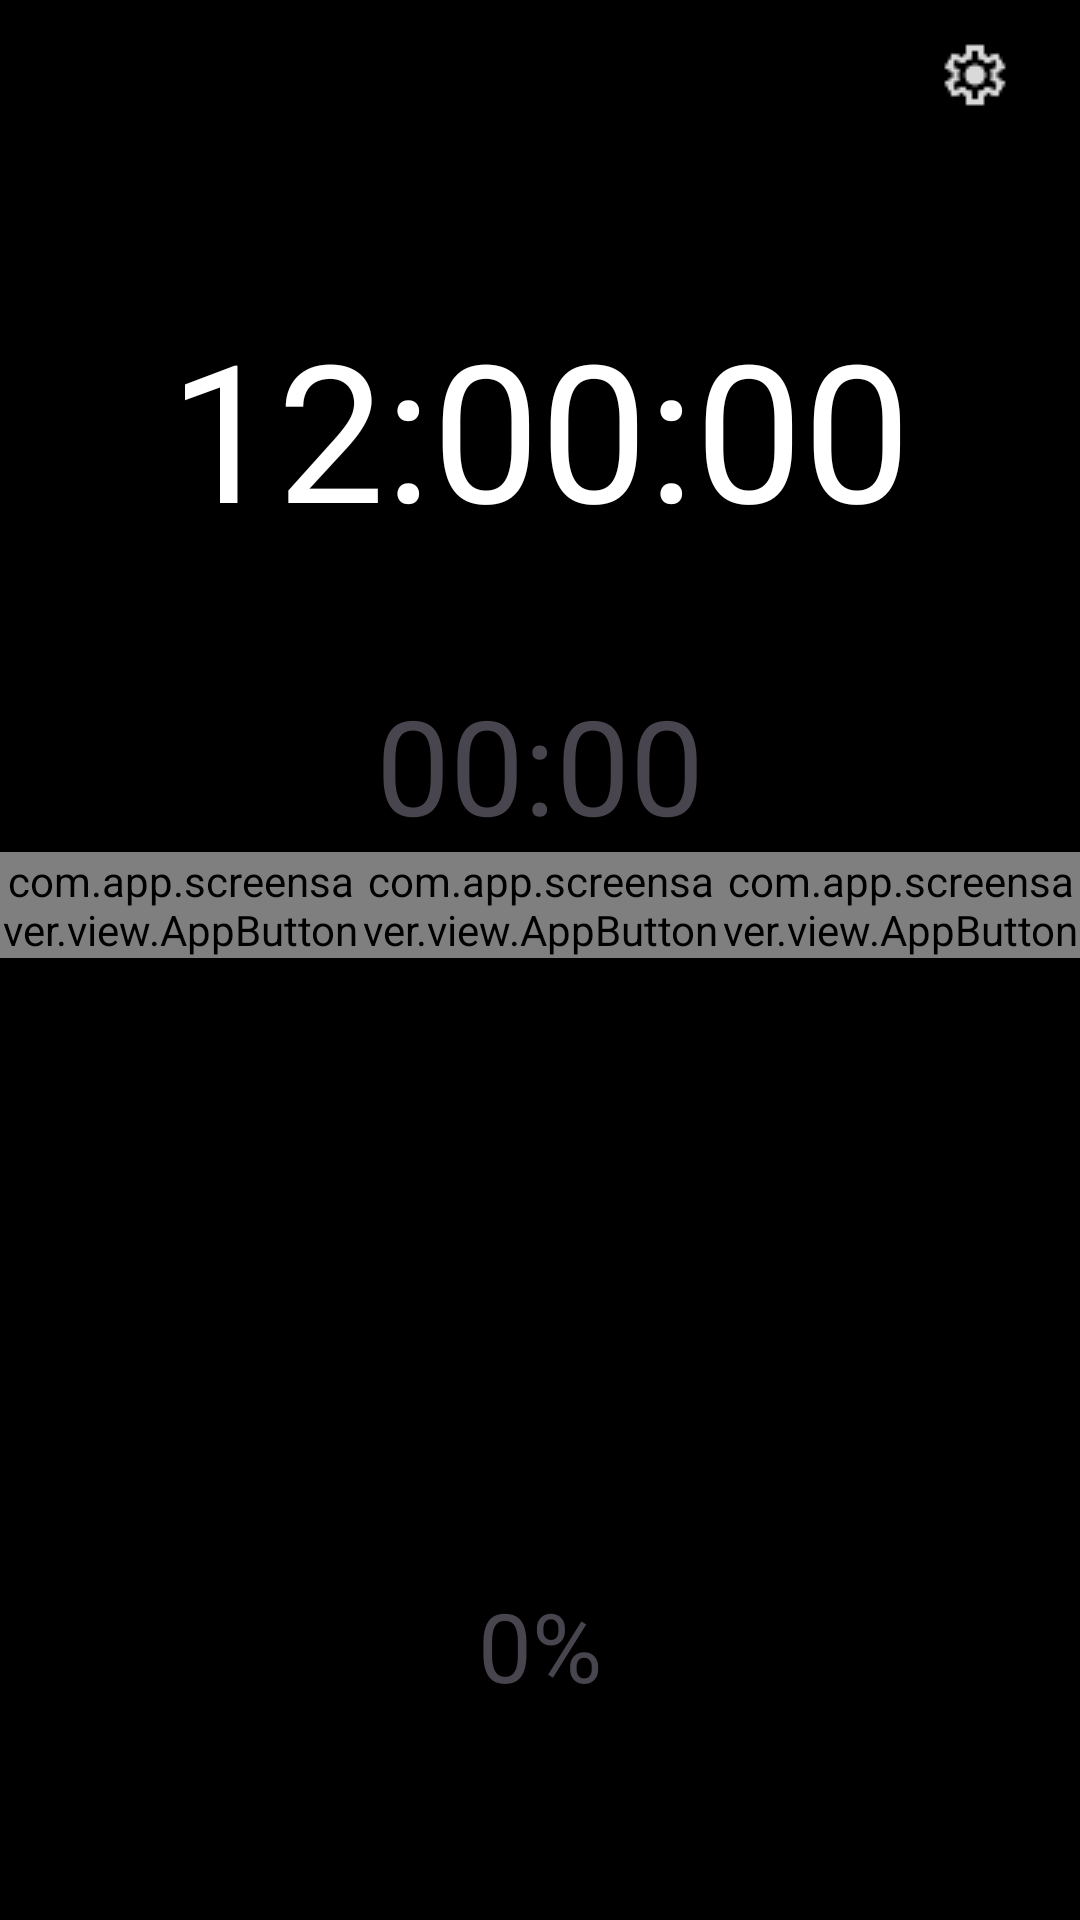

Where to tap for icons on this 1080px×1920px app screen, as (x,y):
settings button icon: (975,75)
